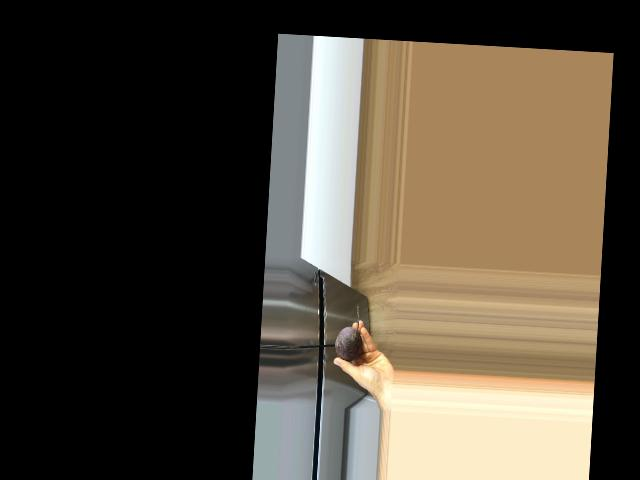beet: (334, 303, 364, 361)
